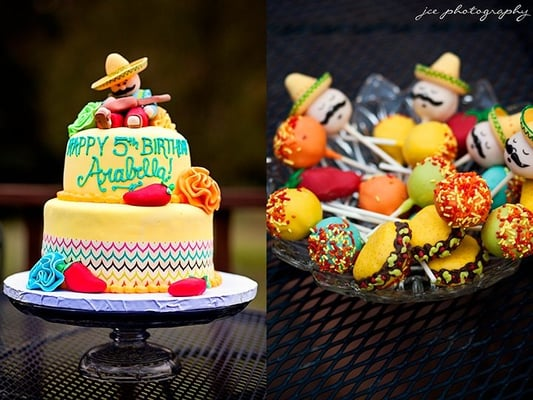sushi: (26, 52, 224, 297)
